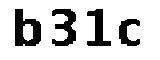1: (84, 8, 114, 51)
3: (47, 5, 80, 51)
b: (11, 8, 44, 50)
c: (117, 18, 143, 49)
